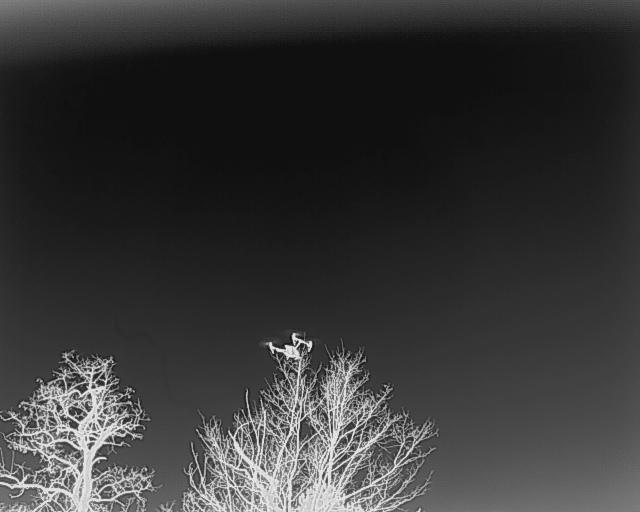drone: (256, 322, 324, 368)
